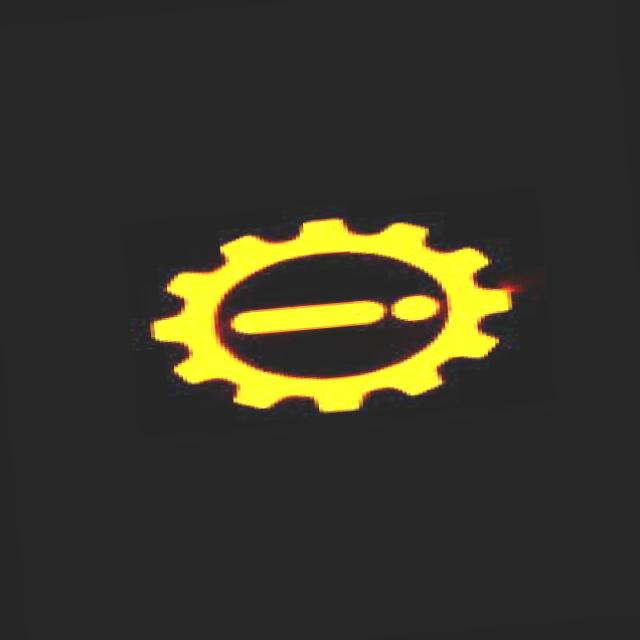kontrolka: (118, 162, 554, 462)
